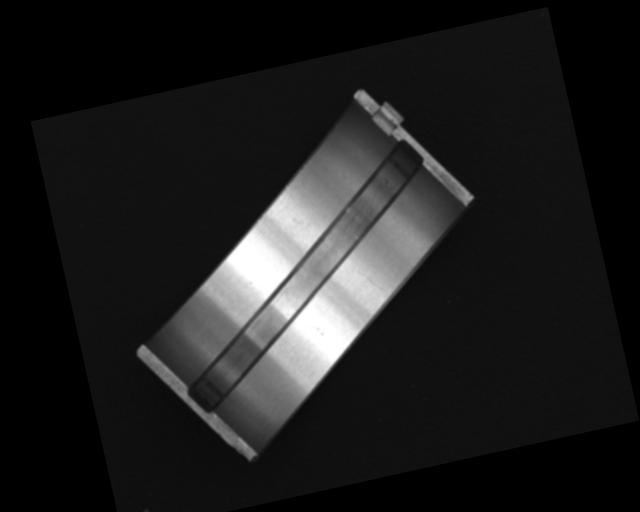gap: (145, 138, 465, 417)
nick: (356, 264, 383, 297)
